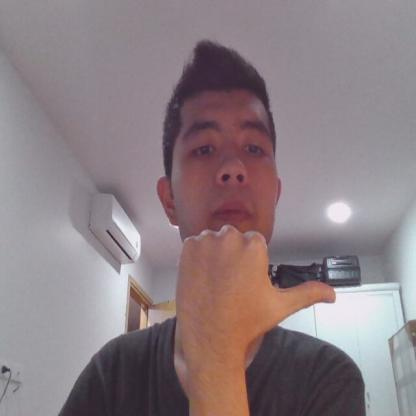left: (177, 222, 337, 344)
